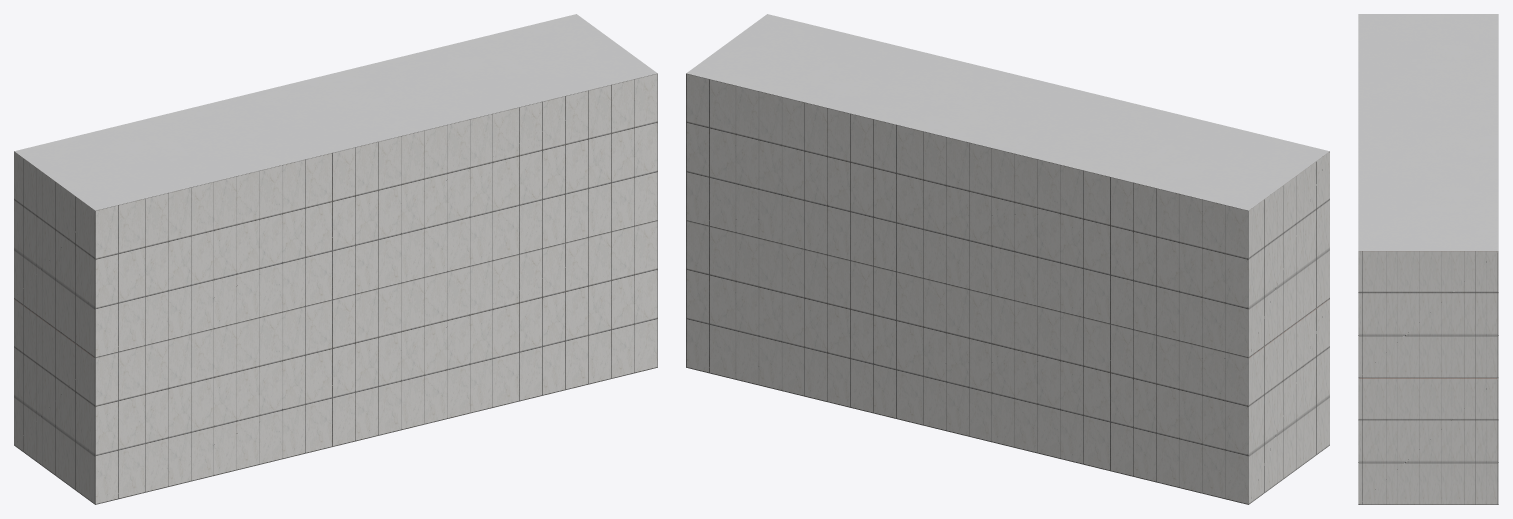
The model's file is WallThickHalf.fbx.
3 renders of one model, left to right at view 1: azimuth 30°, elevation 25°; view 2: azimuth 150°, elevation 25°; view 3: azimuth 270°, elevation 25°, orthographic. The views are drawn at different scales.
Visible parts, largest first — view 1: WallThickHalf; view 2: WallThickHalf; view 3: WallThickHalf.
Part boxes in pixels (box(x1,y1,x2,y2)): WallThickHalf: box(14, 14, 657, 504); WallThickHalf: box(686, 14, 1329, 504); WallThickHalf: box(1358, 14, 1498, 504).
Size of the model in its own units: 4 by 2 by 1.
